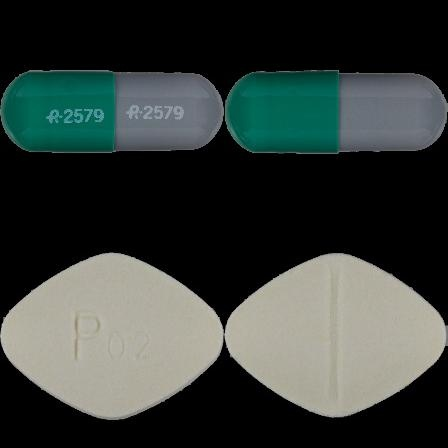49884-832: (0, 0, 224, 224)
